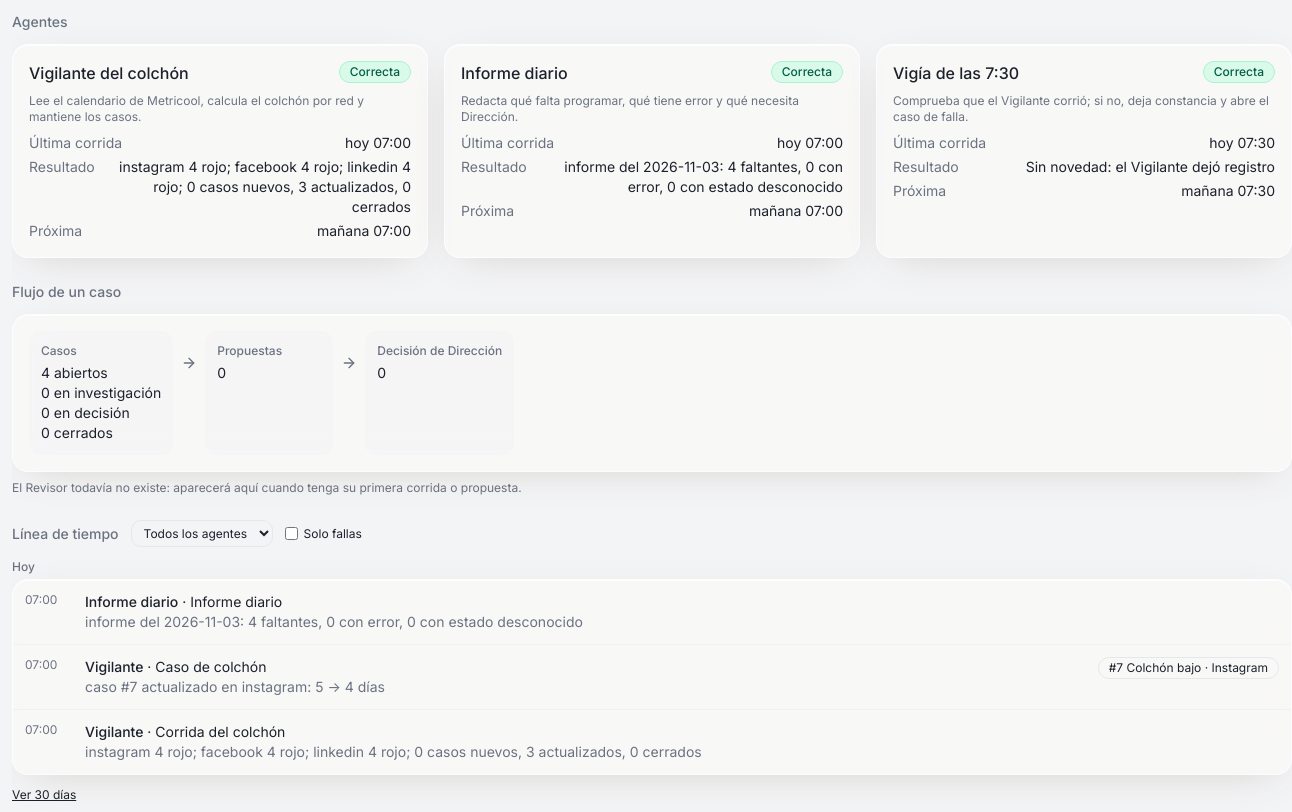
Scenario: vista Agentes › filtro por agente y «solo fallas»
Select "Informe diario" in the dropdown named "Filtrar por agente" at (202, 534), box [131,520,273,547]
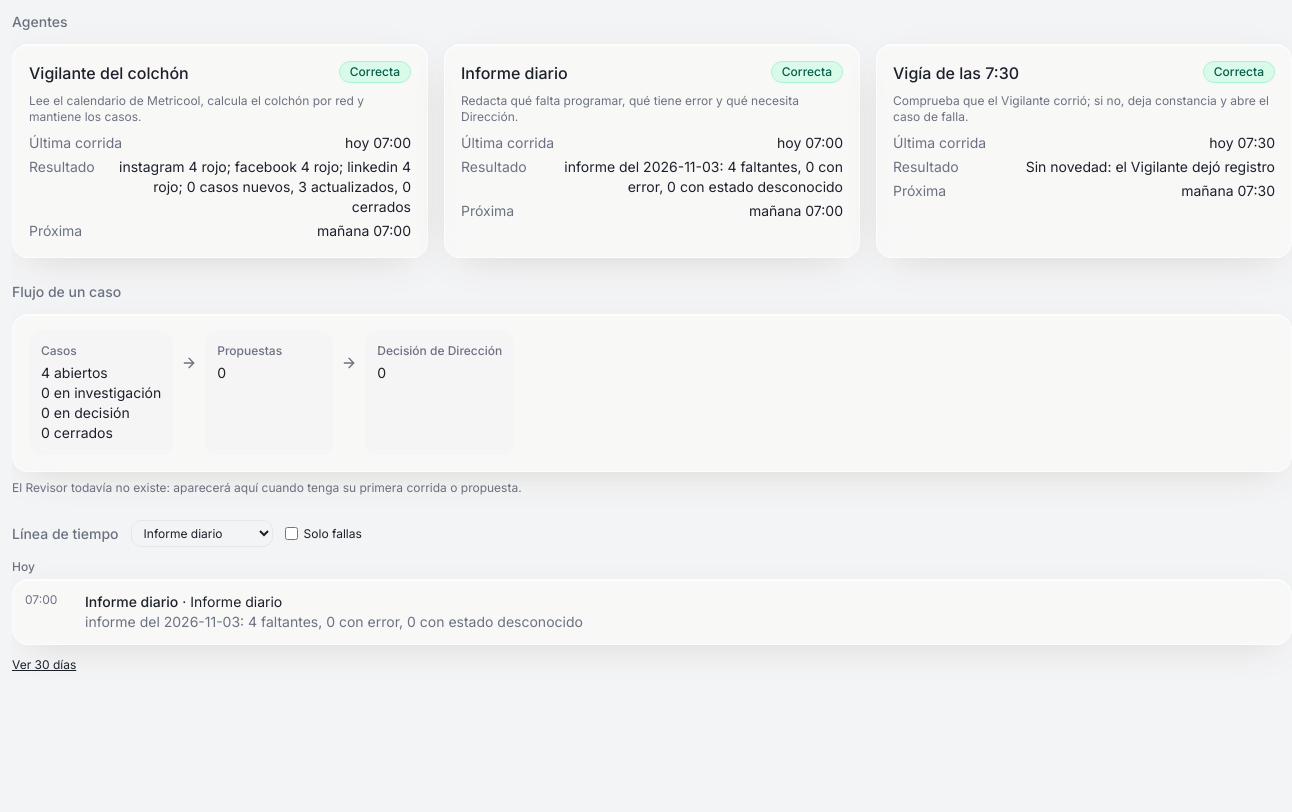
Expected: the list item with test id "evento-a1" is shown, [25,592,583,630]
Now the list item with test id "evento-a2" is gone
Click the checkbox labelled "Solo fallas" at (291, 534), box [285,527,298,540]
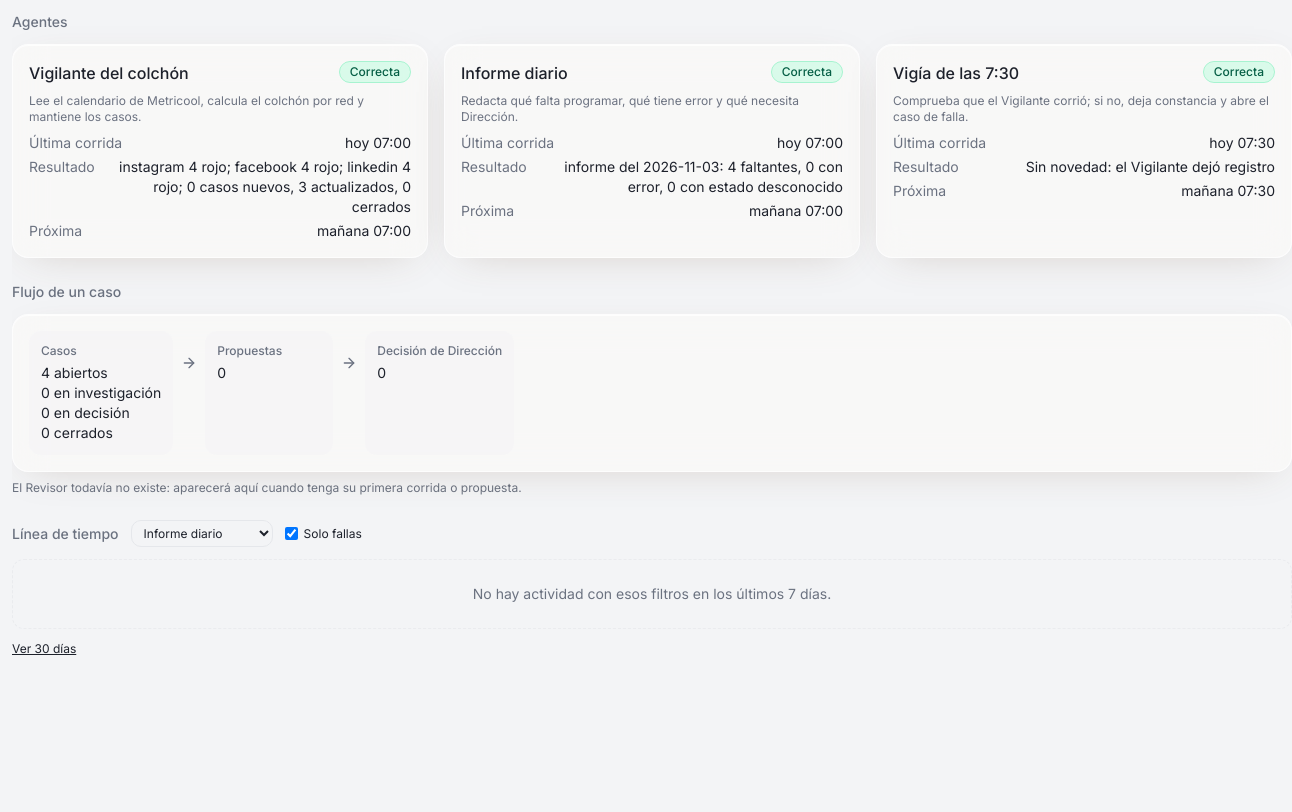
Now the text "No hay actividad con esos filtros en los últimos 7 días." is shown, box [12,559,1291,629]
